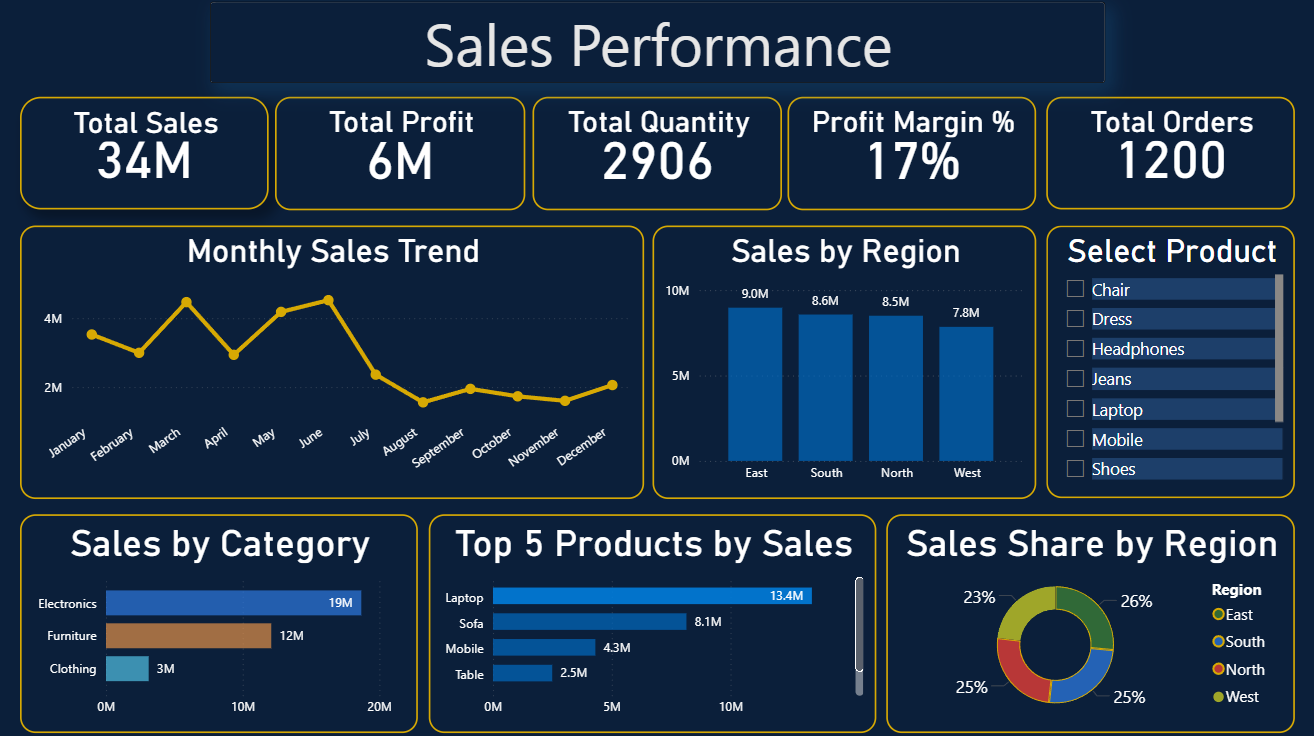

Layout of this report page (visuals, bound fields, positions):
{"tool":"powerbi","page":{"name":"Page 1","canvas":[1280,720],"ordinal":0},"visuals":[{"type":"card","title":"Total Orders","fields":{"Values":["Sales_Data.Total Order"]},"box":[1014.6,100.1,240.1,108.6],"z":0},{"type":"card","title":"Total Sales","fields":{"Values":["Sum(Sales_Data.Sales)"]},"box":[24.1,100.1,240.1,108.6],"z":1000},{"type":"card","title":"Total Profit","fields":{"Values":["Sum(Sales_Data.Profit)"]},"box":[270.2,100.1,241.3,109.8],"z":2000},{"type":"card","title":"Total Quantity","fields":{"Values":["Sum(Sales_Data.Quantity)"]},"box":[519.2,100.4,241,109.7],"z":3000},{"type":"card","title":"Profit Margin %","fields":{"Values":["Sales_Data.Profit Margin%"]},"box":[764.9,100.1,240.1,109.8],"z":4000},{"type":"clusteredBarChart","title":"Sales by Category","fields":{"Category":["Sales_Data.Category"],"Y":["Sum(Sales_Data.Sales)"]},"box":[24.1,503.1,383.6,211.1],"z":5000},{"type":"lineChart","title":"Monthly Sales Trend","fields":{"Category":["Sales_Data.Order_Date.Variation.Date Hierarchy.Month"],"Y":["Sum(Sales_Data.Sales)"]},"box":[24.1,224.4,602,264.2],"z":6000},{"type":"clusteredColumnChart","title":"Sales by Region","fields":{"Category":["Sales_Data.Region"],"Y":["Sum(Sales_Data.Sales)"]},"box":[634.6,224.4,370.4,264.2],"z":7000},{"type":"clusteredBarChart","title":"Top 5 Products by Sales","fields":{"Category":["Sales_Data.Product"],"Y":["Sum(Sales_Data.Sales)"]},"box":[418.6,503.1,431.9,211.1],"z":8000},{"type":"donutChart","title":"Sales Share by Region","fields":{"Category":["Sales_Data.Region"],"Y":["Sum(Sales_Data.Sales)"]},"box":[860.2,503.1,394.5,211.1],"z":9000},{"type":"textbox","title":"Sales Performance ","box":[207.5,8.4,863.8,78.4],"z":10000},{"type":"slicer","title":"Select Product","fields":{"Values":["Sales_Data.Product"]},"box":[1014.6,224.4,240.1,263],"z":10001}]}

Visuals, with their boxes in screenshot pixels (x1, y1, x2, y2), scaled from the page's 1280x720 canvas onto the 1314x736 screenshot:
"Total Orders" card: (x1=1042, y1=102, x2=1288, y2=213)
"Total Sales" card: (x1=25, y1=102, x2=271, y2=213)
"Total Profit" card: (x1=277, y1=102, x2=525, y2=215)
"Total Quantity" card: (x1=533, y1=103, x2=780, y2=215)
"Profit Margin %" card: (x1=785, y1=102, x2=1032, y2=215)
"Sales by Category" clusteredBarChart: (x1=25, y1=514, x2=419, y2=730)
"Monthly Sales Trend" lineChart: (x1=25, y1=229, x2=643, y2=499)
"Sales by Region" clusteredColumnChart: (x1=651, y1=229, x2=1032, y2=499)
"Top 5 Products by Sales" clusteredBarChart: (x1=430, y1=514, x2=873, y2=730)
"Sales Share by Region" donutChart: (x1=883, y1=514, x2=1288, y2=730)
"Sales Performance " textbox: (x1=213, y1=9, x2=1100, y2=89)
"Select Product" slicer: (x1=1042, y1=229, x2=1288, y2=498)
